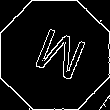M_S: (24, 23, 86, 87)
